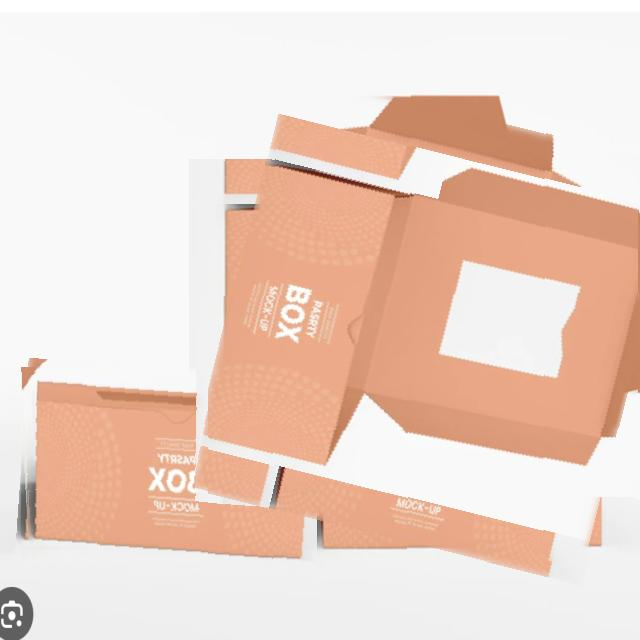biodegradable: (208, 93, 640, 564), (18, 363, 323, 570)
